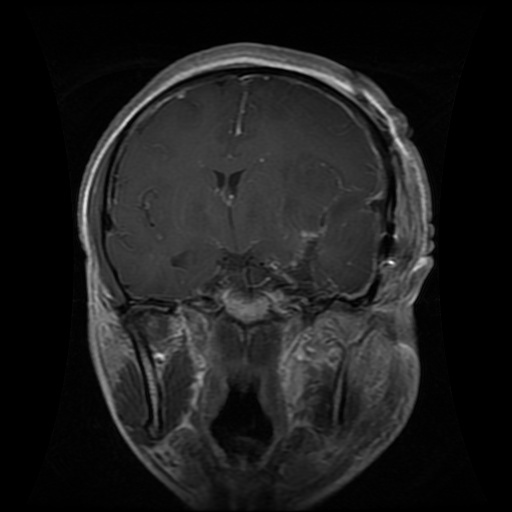glioma: (278, 152, 377, 292)
